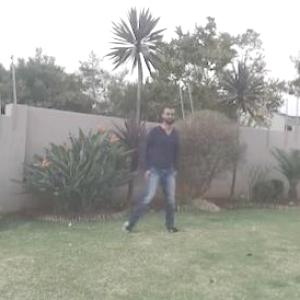follow: (143, 102, 178, 224)
